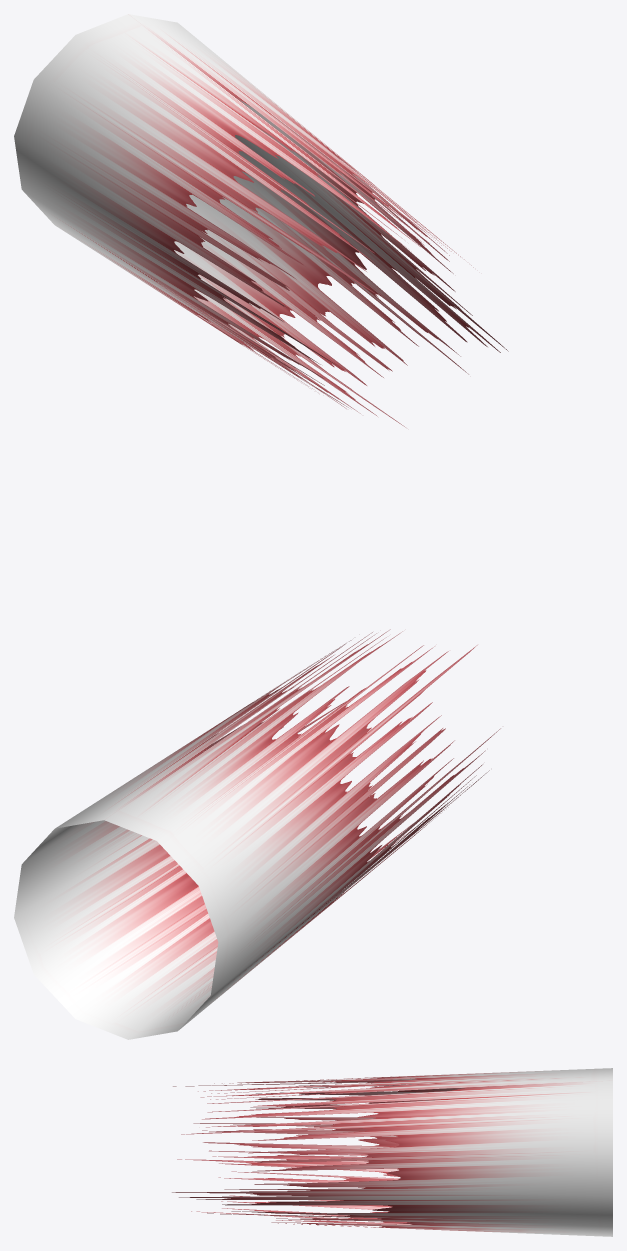
File: Effect2.obj
3 views of the same model, one above another, from view 1: azimuth 30°, elevation 25°; view 2: azimuth 150°, elevation 25°; view 3: azimuth 270°, elevation 25° (orthographic). The views are drawn at different scales.
Visible parts, largest first — view 1: Cylinder001; view 2: Cylinder001; view 3: Cylinder001.
Part boxes in pixels (<box>): Cylinder001: <box>14,14,508,427</box>; Cylinder001: <box>14,629,500,1039</box>; Cylinder001: <box>172,1068,612,1236</box>.
Size of the model in its own units: 32.27 by 32.27 by 115.
1 material, 1 textured.
